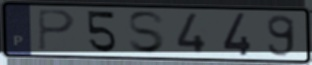4: (174, 11, 209, 56), (220, 12, 253, 58)
5: (85, 9, 119, 54)
9: (265, 14, 296, 58)
P: (36, 7, 78, 53)
S: (125, 10, 168, 55)
